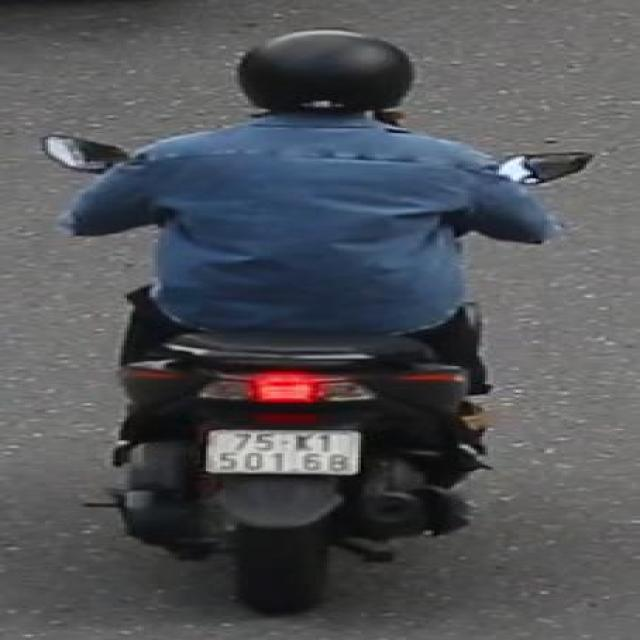LP: (199, 427, 368, 482)
helmet: (227, 23, 424, 132)
